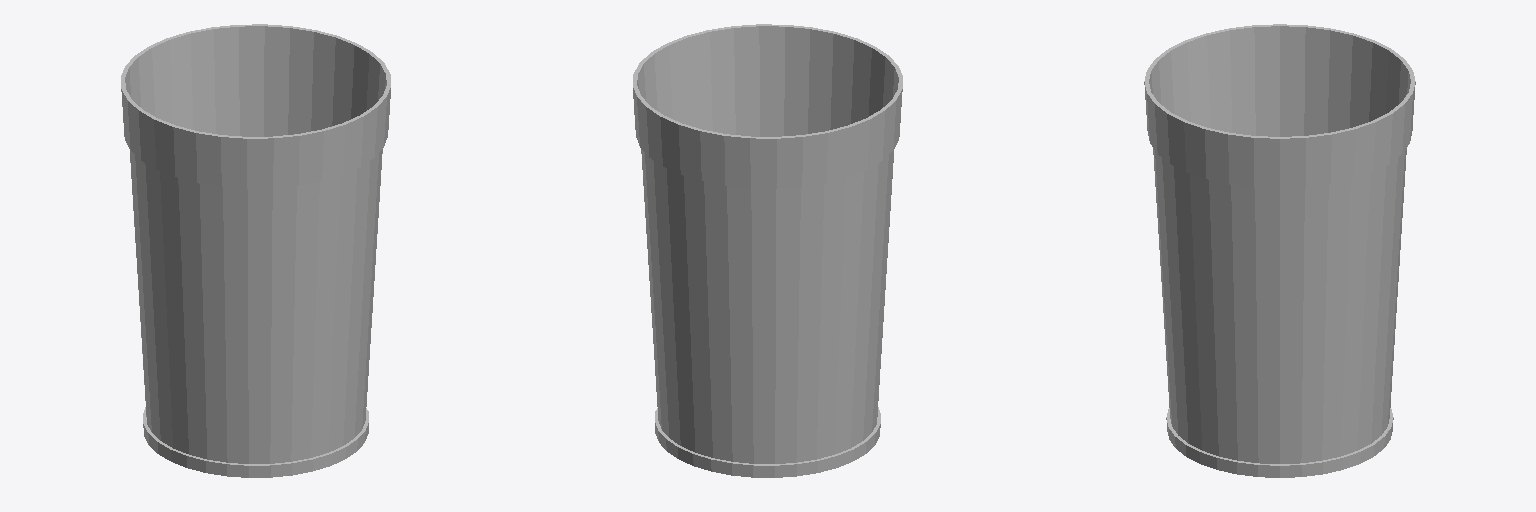
File: GarbageCan.obj
3 renders of one model, left to right at view 1: azimuth 30°, elevation 25°; view 2: azimuth 150°, elevation 25°; view 3: azimuth 270°, elevation 25°, orthographic.
Parts seen in each view (by area): view 1: Cylinder; view 2: Cylinder; view 3: Cylinder.
Part boxes in pixels (x1,y1,x2,y2): Cylinder: (121,24,390,477); Cylinder: (633,24,902,477); Cylinder: (1144,24,1415,477).
Bounding box in the file's own units: 0.2507 × 0.3556 × 0.2507.